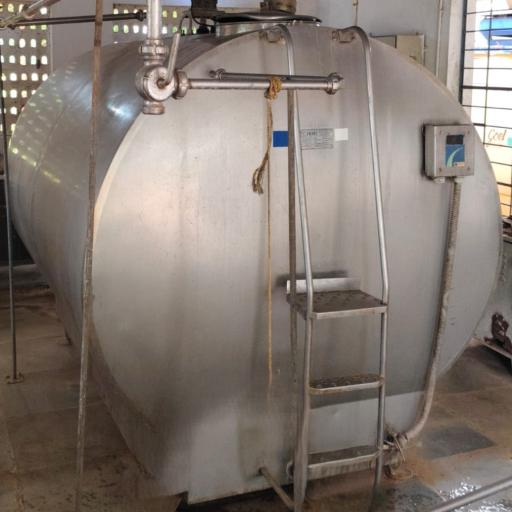silo: (7, 11, 504, 501)
